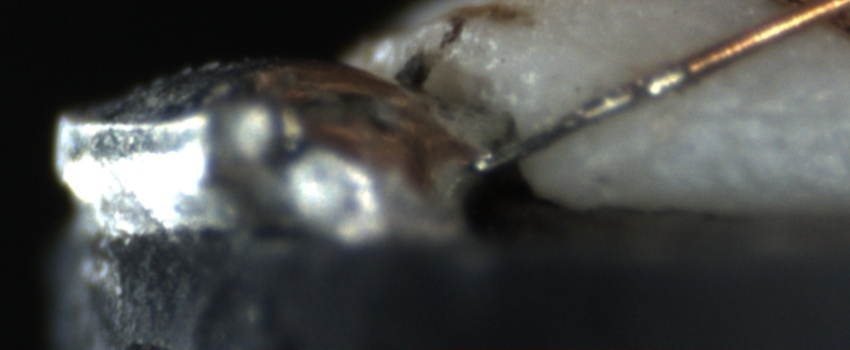CL: (764, 1, 849, 35)
DL: (623, 83, 850, 147)
TS: (480, 67, 687, 171)
